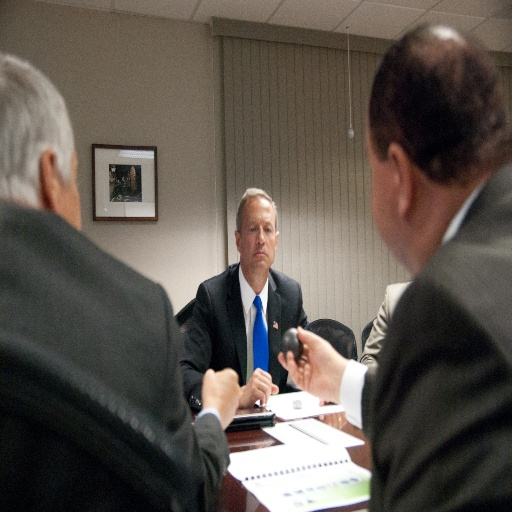hand: (277, 325, 342, 398), (200, 366, 242, 427), (240, 367, 278, 408)
